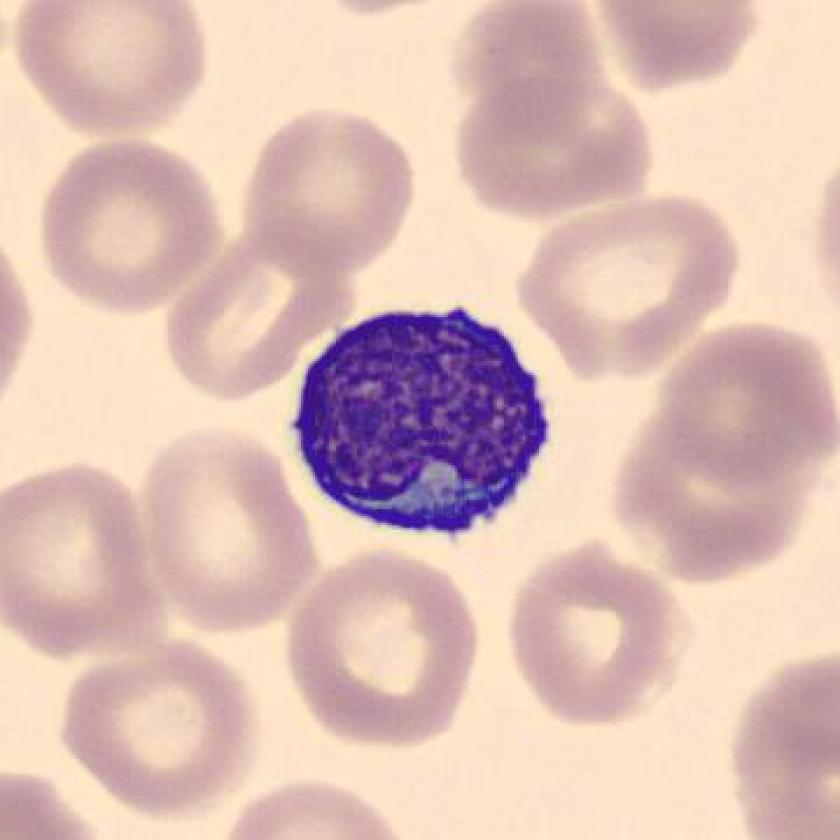lymphocyte: (279, 284, 566, 557)
